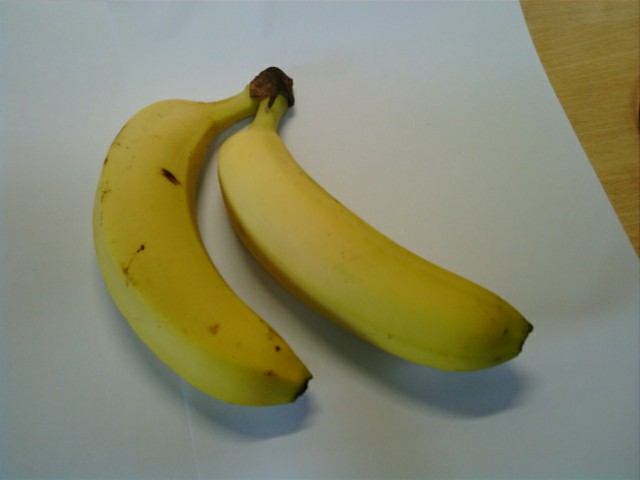fresh_banana: (221, 130, 532, 371)
normal_banana: (91, 95, 308, 409)
